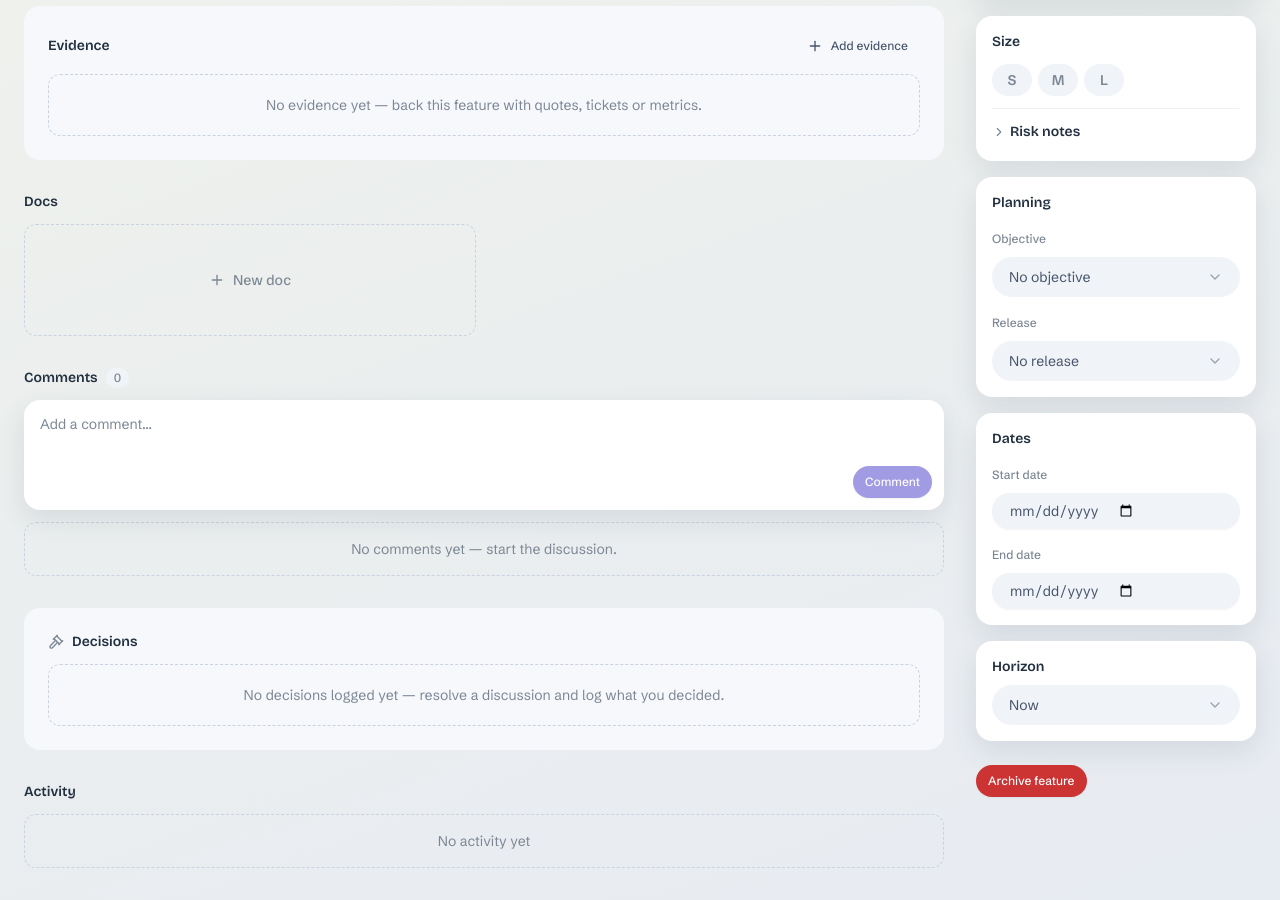
FeaturePage archive › clicking Archive opens a dialog with restorable copy
This screenshot has width=1280, height=900.
(page scrolled)
Click the button "Archive feature" at (1031, 781), box [976,765,1087,797]
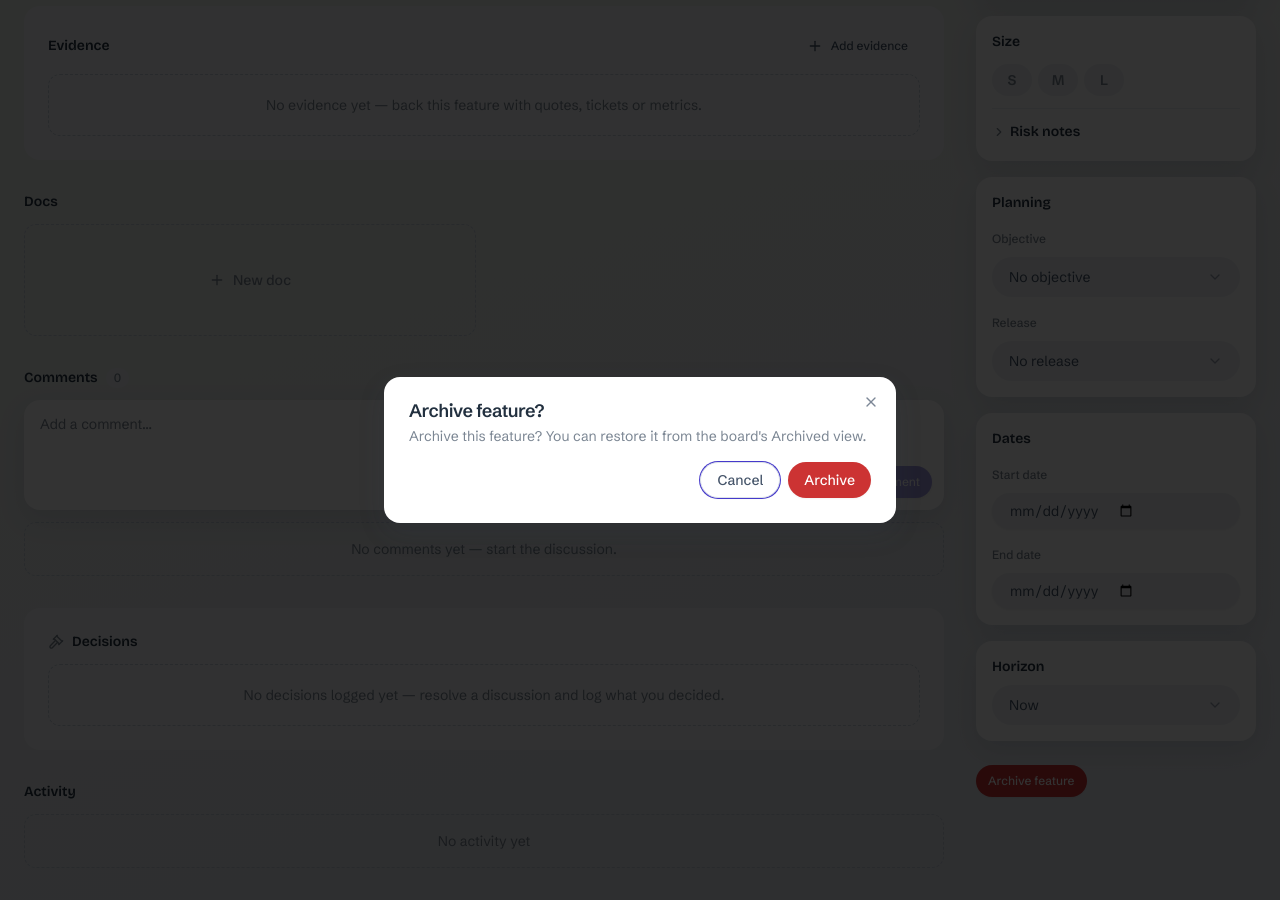
Expected: the text "restore it from the board" is shown, [409,427,866,445]
